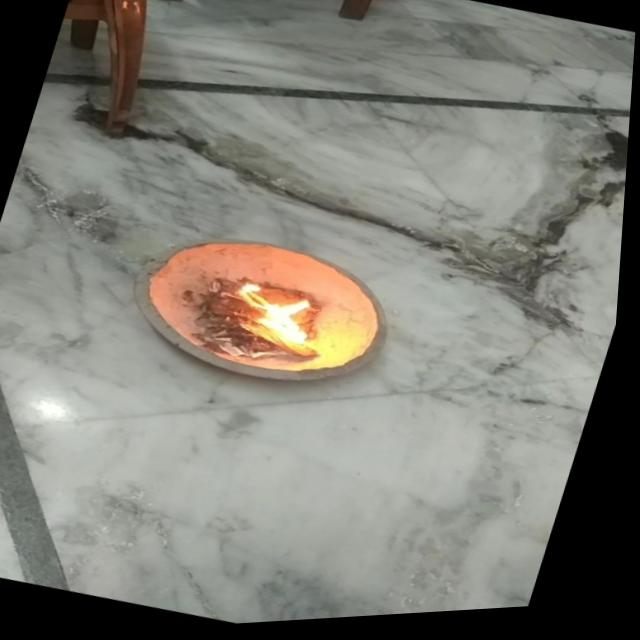fire: (220, 274, 338, 362)
